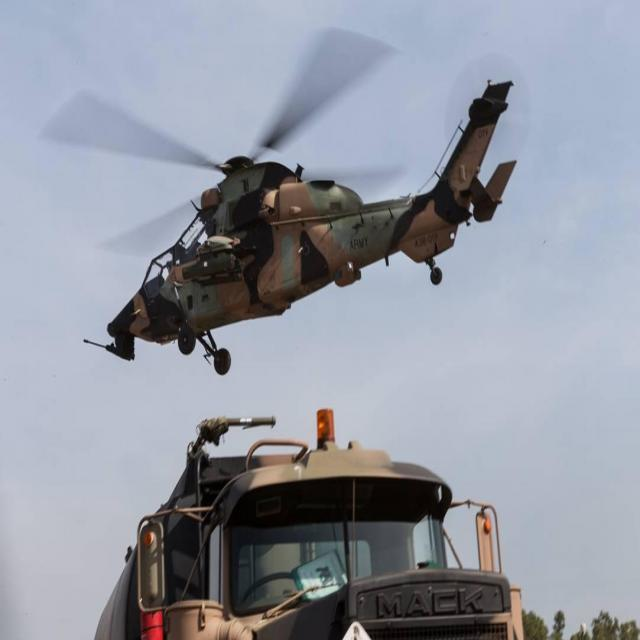MIL_HELO: (21, 23, 555, 374)
